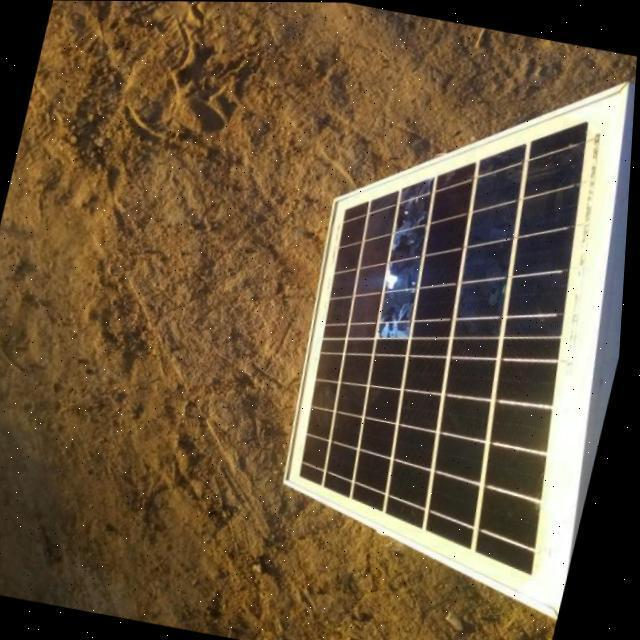Normal Solar Panel: (252, 40, 638, 618)
